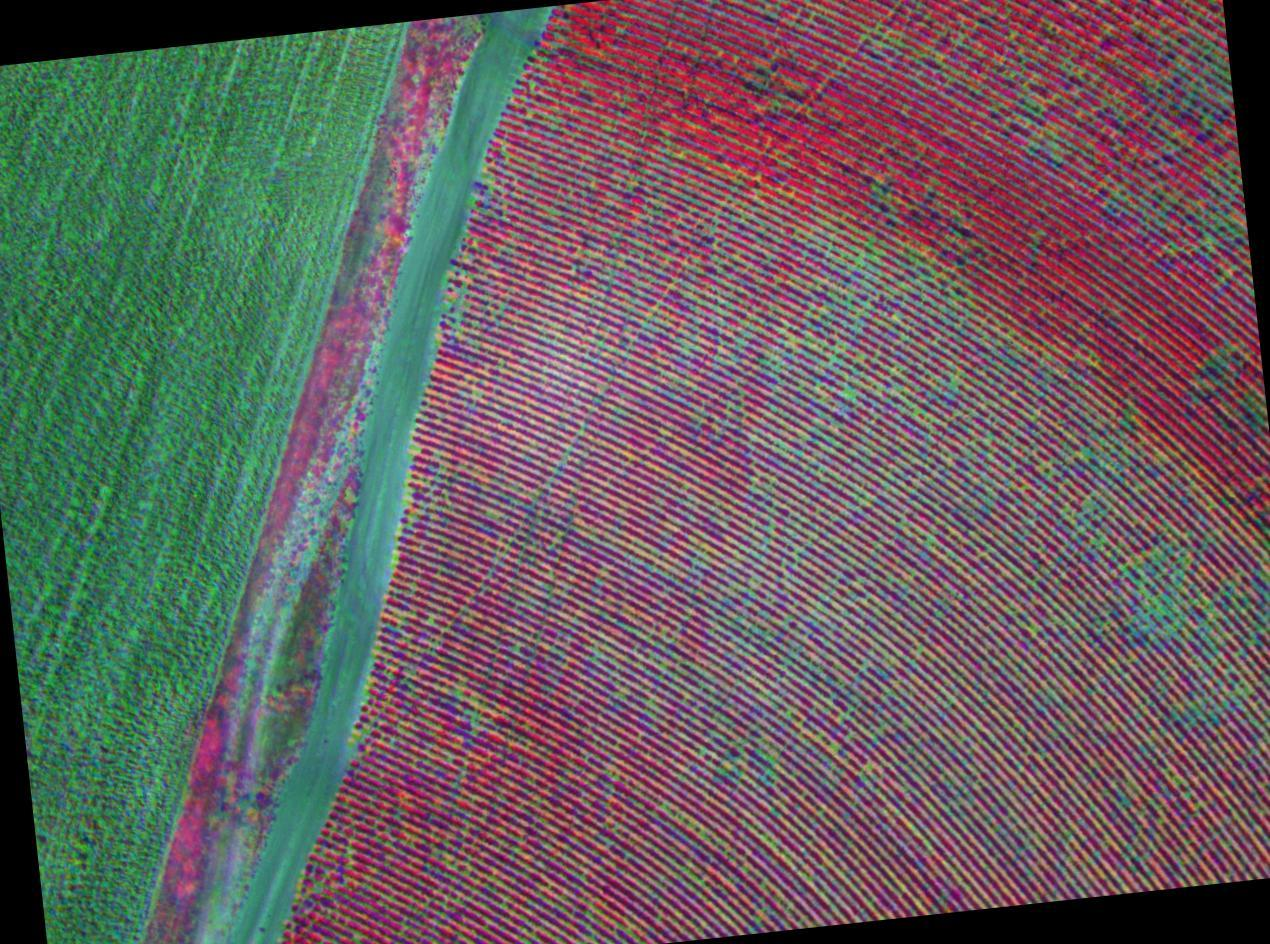dc: (456, 301, 460, 305), (929, 538, 933, 542), (937, 612, 940, 616), (712, 732, 716, 735), (862, 666, 865, 669), (456, 692, 459, 695)
